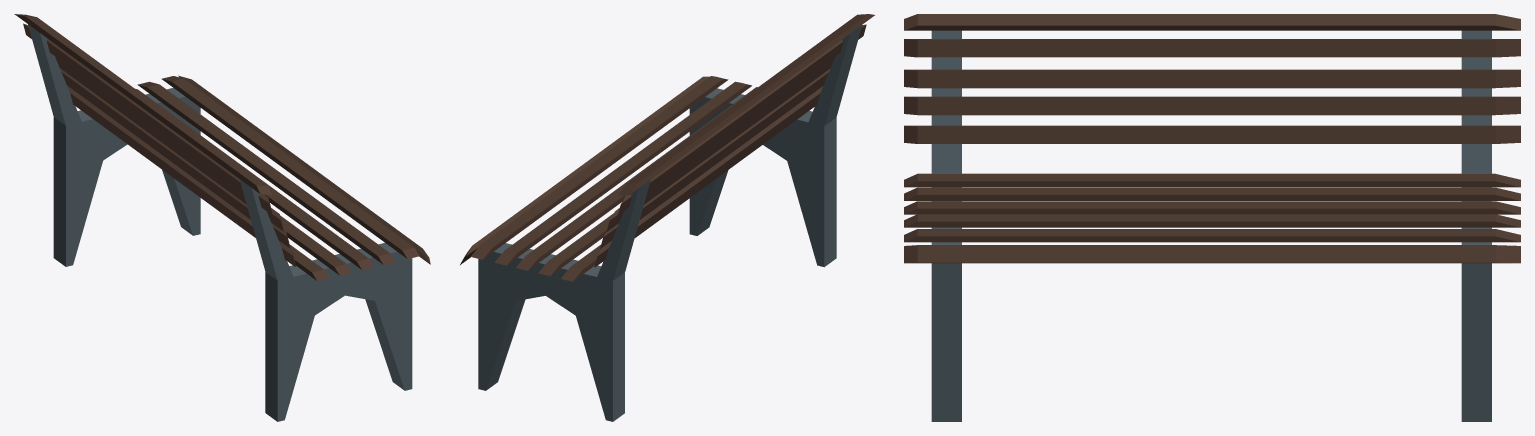
Rendered from Bench.fbx.
The picture shows the model from 3 angles, left to right: view 1: azimuth 30°, elevation 25°; view 2: azimuth 150°, elevation 25°; view 3: azimuth 270°, elevation 25°; orthographic projection. The views are drawn at different scales.
Visible parts, largest first — view 1: Seat, Legs; view 2: Seat, Legs; view 3: Seat, Legs.
Boxes of the visible parts, box(x1,y1,x2,y2) form: Seat: box(14, 14, 430, 280); Legs: box(28, 24, 412, 421); Seat: box(460, 14, 874, 281); Legs: box(478, 25, 862, 421); Seat: box(904, 14, 1520, 263); Legs: box(931, 30, 1491, 421).
Size of the model in its own units: 258 by 350 by 633.
